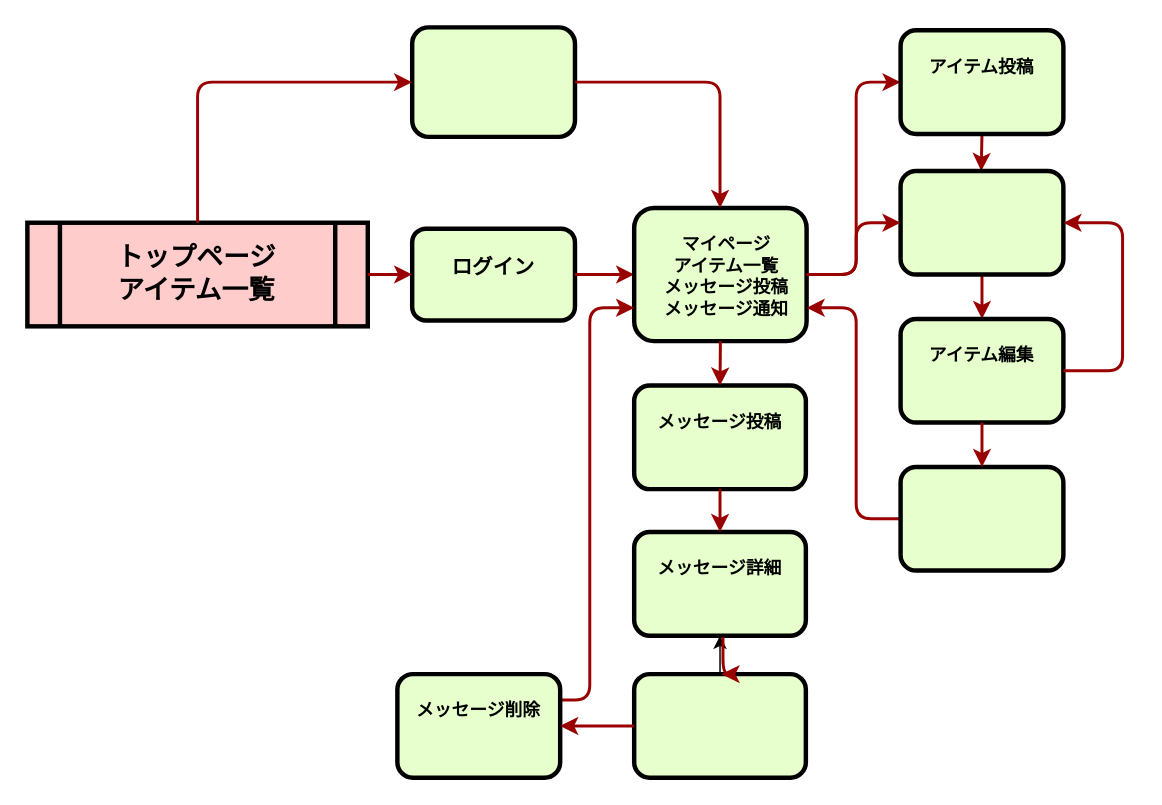
Image size: 1162x805. Some labels were removed from this diagram. The centre of each missing label's shape, as x and y in pixels:
アイテム削除: [981,518]
アイテム詳細: [981,222]
メッセージ編集: [719,725]
ユーザー 新規登録: [492,81]
